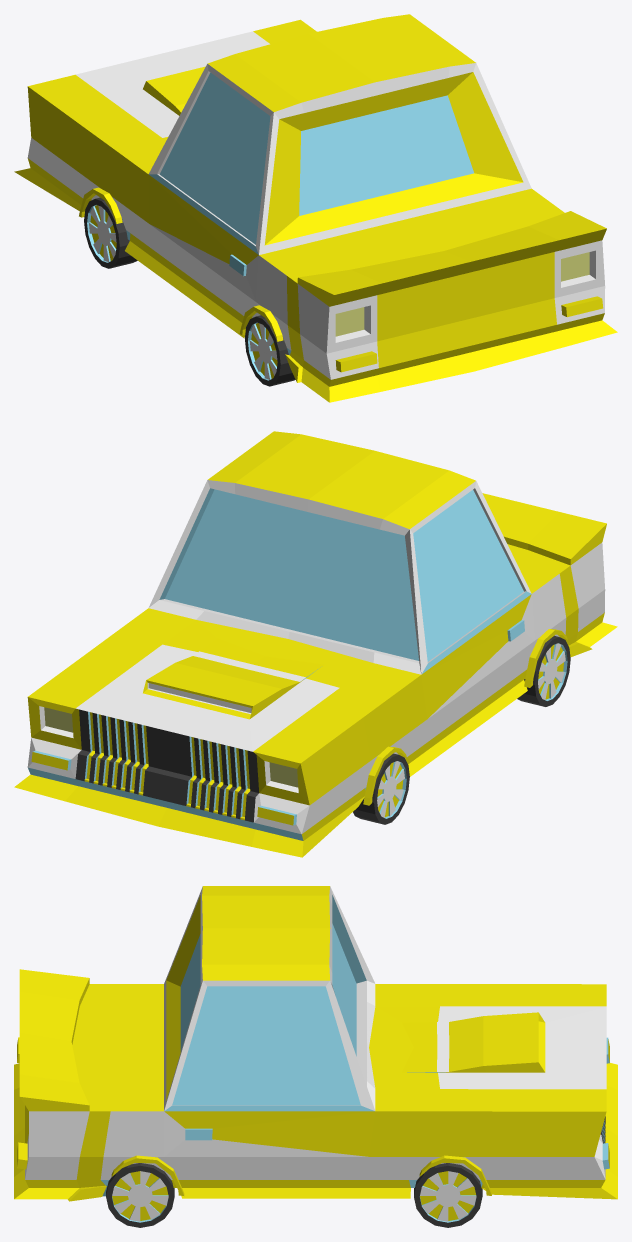
The model's file is car_yerllow.fbx.
The picture shows the model from 3 angles, top to bottom: view 1: azimuth 30°, elevation 25°; view 2: azimuth 150°, elevation 25°; view 3: azimuth 270°, elevation 25°; orthographic projection. The views are drawn at different scales.
Parts seen in each view (by area): view 1: car; view 2: car; view 3: car.
Part boxes in pixels (<box>): car: <box>14,14,617,402</box>; car: <box>14,431,617,857</box>; car: <box>14,886,617,1227</box>.
Bounding box in the file's own units: 143 × 112 × 264.
